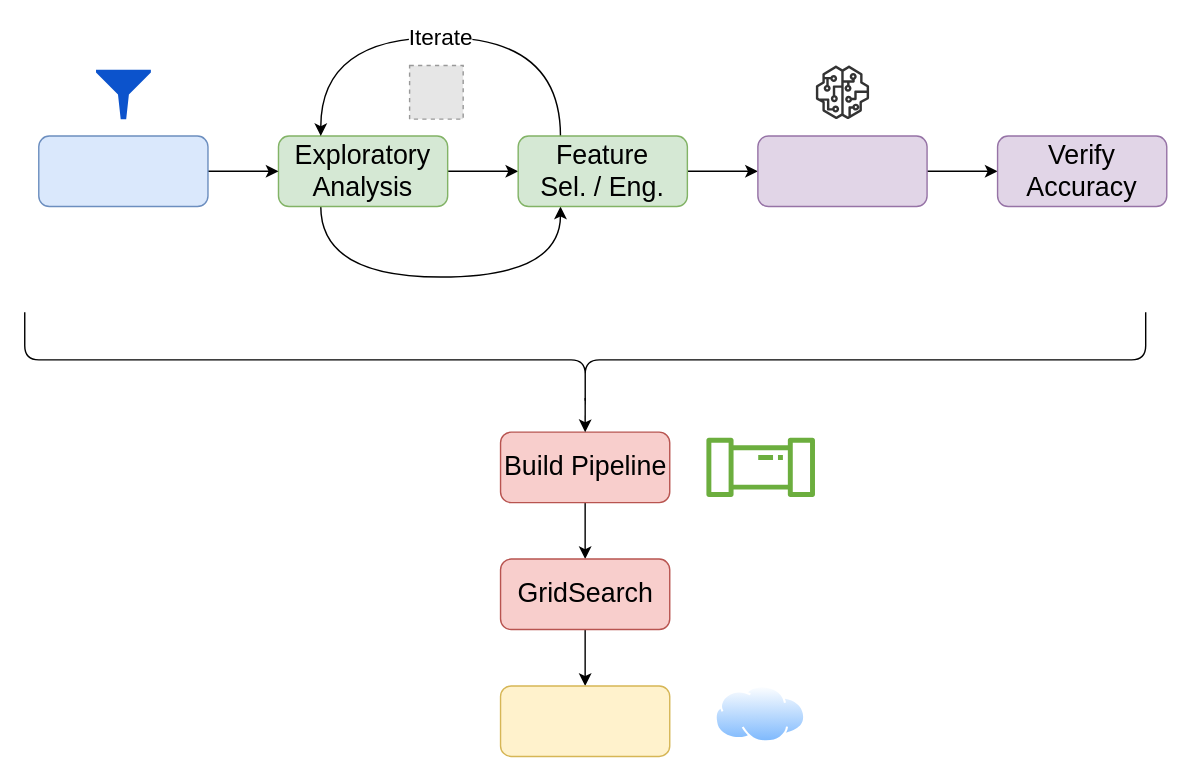
The diagram is 1191 pixels wide and 781 high, and some of its shapes have lost their labels. Grey dashed boxes stand in for pictures. Here are the shapes that lost their labels. From the top down, the centre of each, then its label:
At [122,171]: "Preprocess Data".
At [841,171]: "Create Test Model".
At [584,720]: "Pickle & Deploy".
